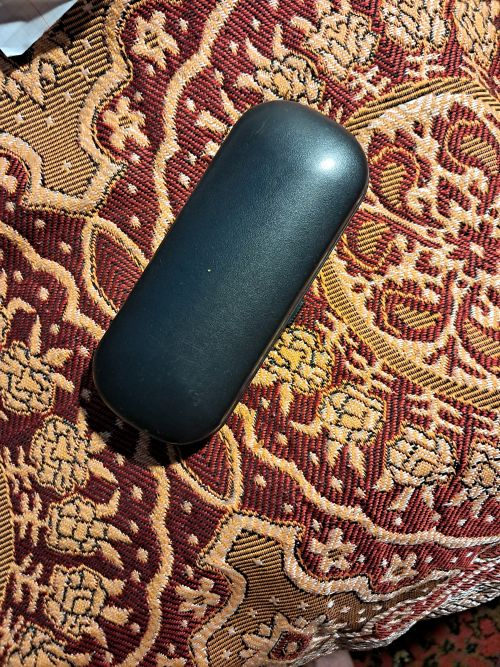case: (91, 100, 368, 446)
